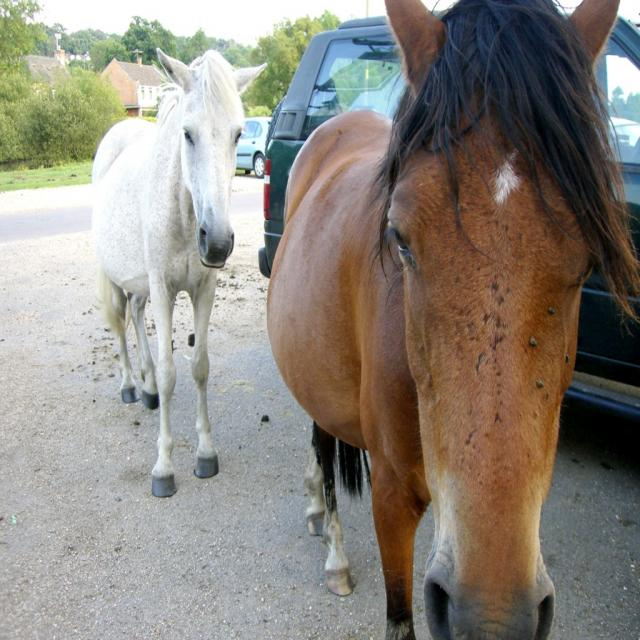Horse: (266, 1, 640, 640), (91, 48, 268, 498)
